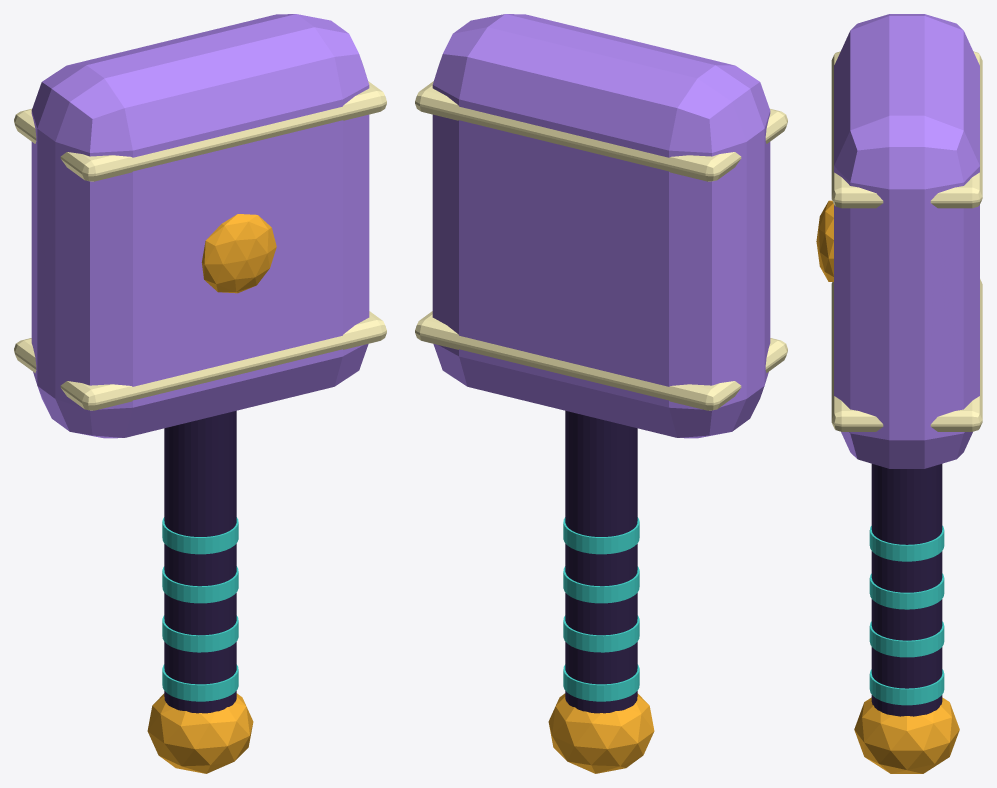
File: PillowBat.fbx
3 renders of one model, left to right at view 1: azimuth 30°, elevation 25°; view 2: azimuth 150°, elevation 25°; view 3: azimuth 270°, elevation 25°, orthographic. The views are drawn at different scales.
Parts seen in each view (by area): view 1: PillowBat; view 2: PillowBat; view 3: PillowBat.
Boxes of the visible parts, x1,y1,x2,y2 form: PillowBat: (14,14,386,773); PillowBat: (415,14,787,773); PillowBat: (816,14,982,773).
Bounding box in the file's own units: 138 × 309 × 66.
Materials: 1 (1 with a texture image).
